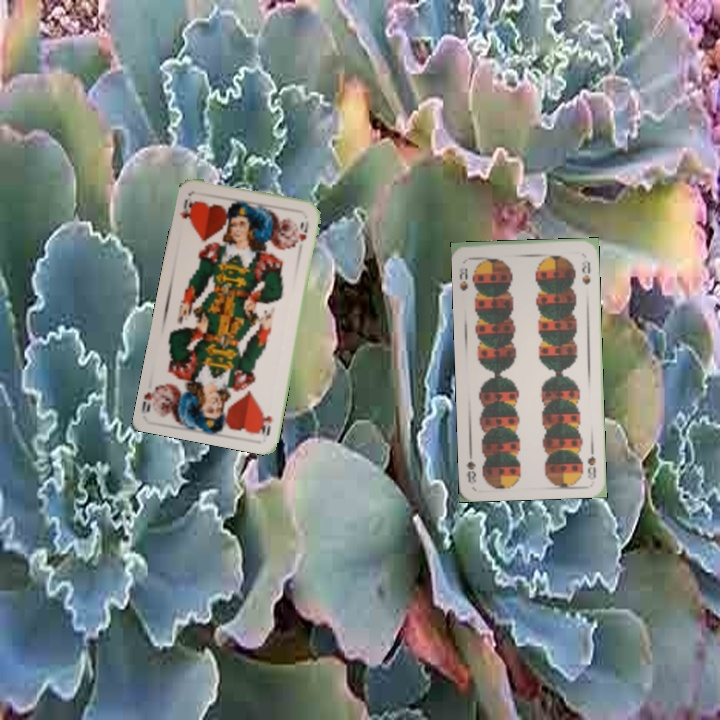HO: (176, 195, 198, 226), (256, 407, 275, 439)
S8: (584, 441, 599, 482), (455, 264, 470, 293)
